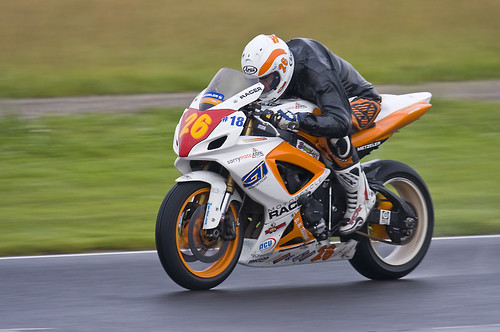helmet: (241, 28, 297, 75)
